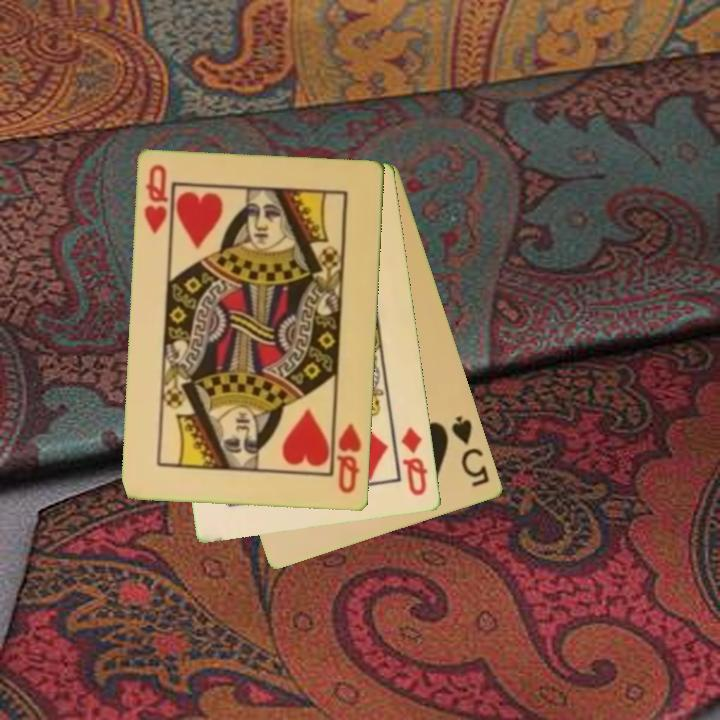5s: (448, 412, 493, 490)
Qd: (398, 424, 431, 499)
Qh: (333, 421, 365, 497), (141, 161, 171, 238)
